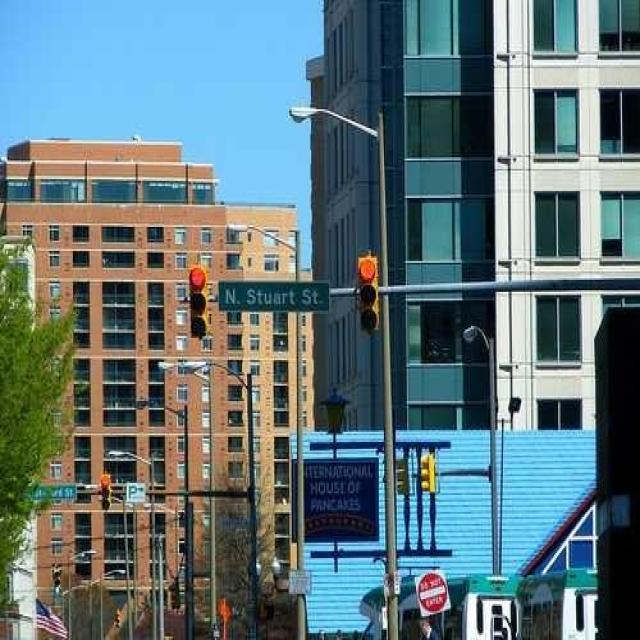Traffic Light -Red-: (356, 252, 381, 334), (188, 263, 209, 345)
